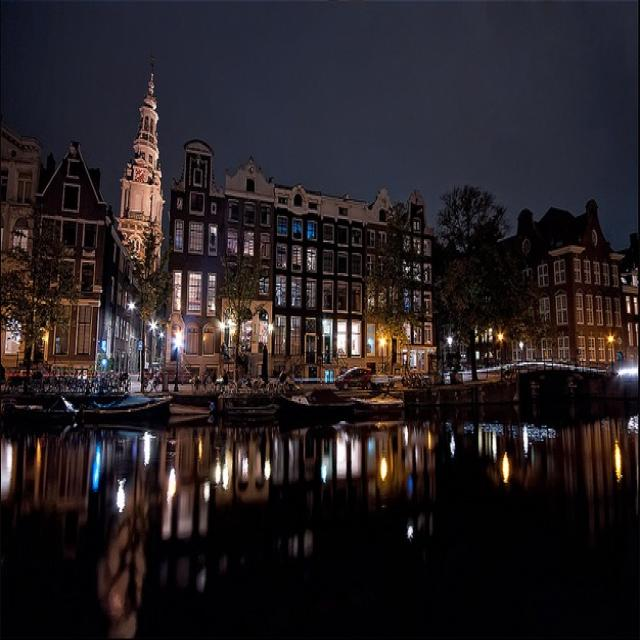Boat: (59, 373, 173, 445), (281, 370, 369, 448), (223, 384, 301, 455), (350, 371, 412, 445), (159, 391, 223, 439)
